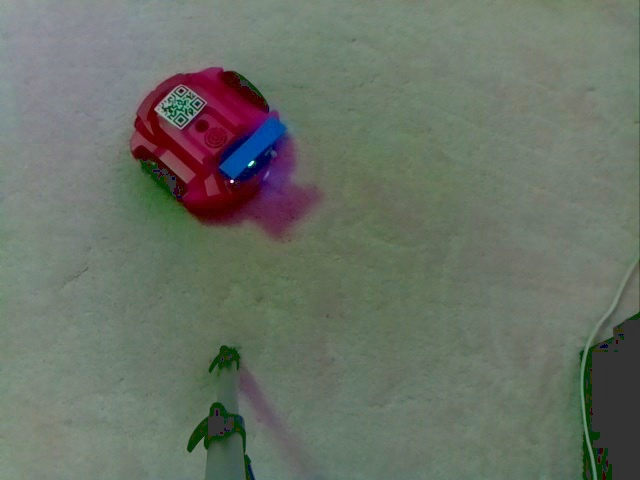board: (219, 113, 287, 181)
chassis: (122, 59, 287, 216)
